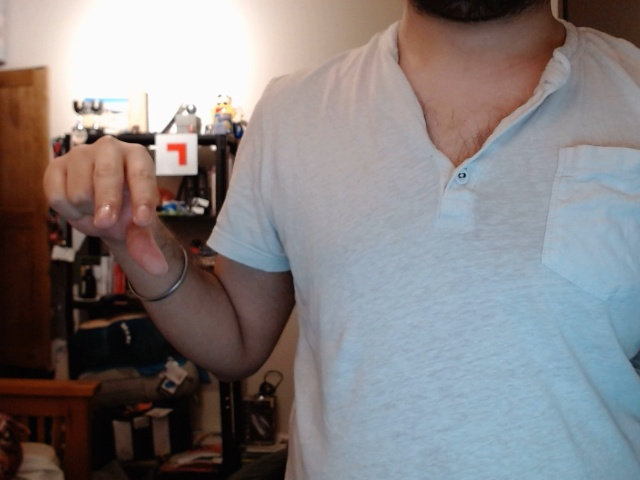No: (41, 132, 165, 270)
